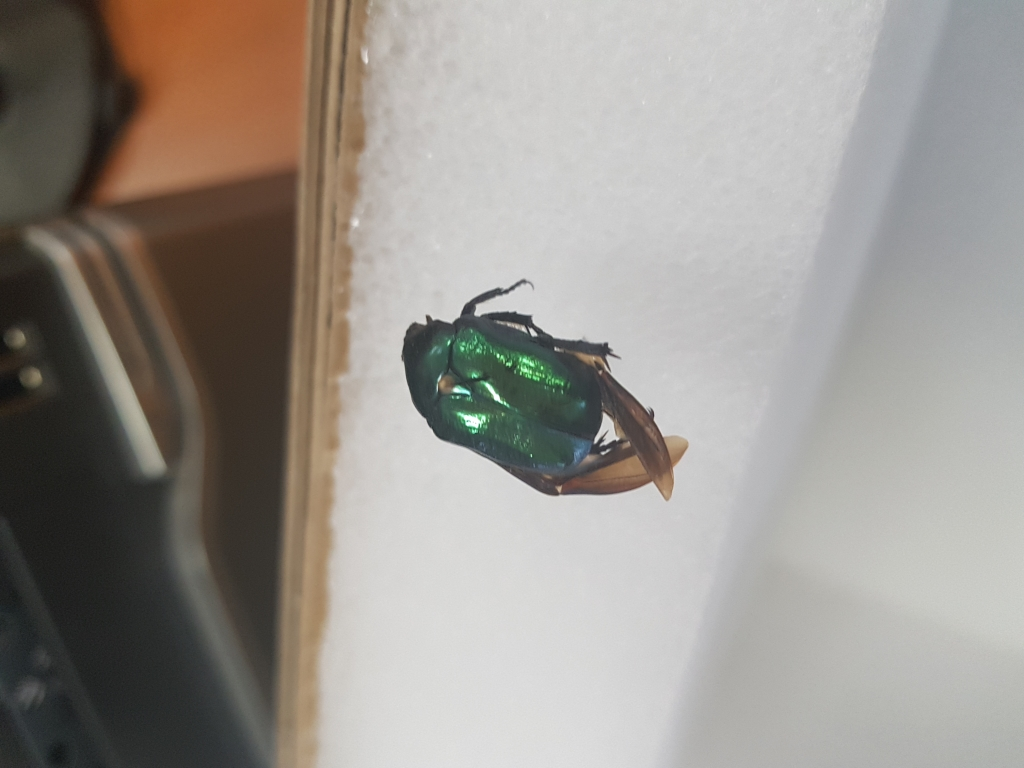Protaetia_angustata_angustata: (396, 272, 696, 505)
